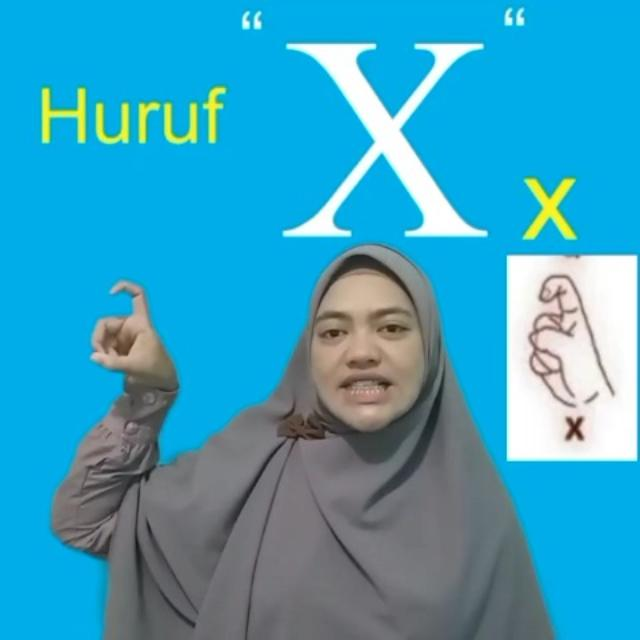X: (89, 276, 180, 388)
